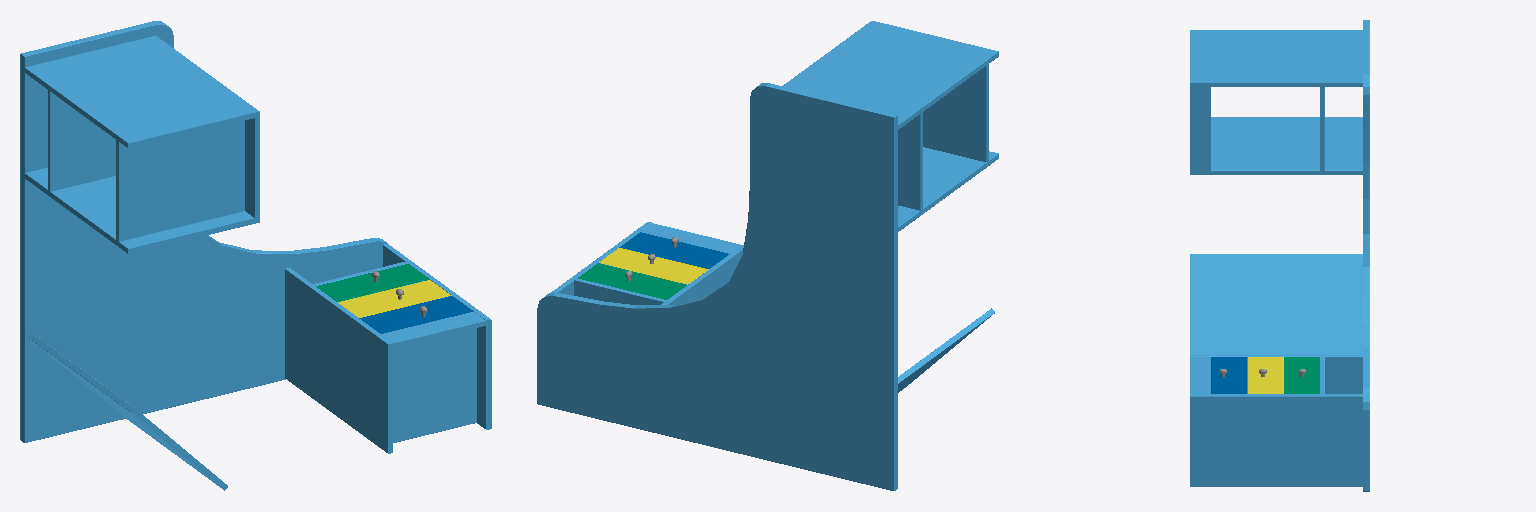
URDF robot description (294):
<robot name="294">


	<link name="0:virtual">
		<visual>
			<origin xyz="0.0 0.0 0.0" rpy="0 0 0"/>
			<geometry>
				<cylinder length="0" radius="0"/>
			</geometry>
		</visual>
	</link>


	<link name="1:static">
		<visual>
			<origin xyz="-0.0 -0.0 -0.0" rpy="0 0 0"/>
			<geometry>
				<mesh filename="../raw_data/294/part_meshes/1.dae" />
			</geometry>
		</visual>
	</link>


	<link name="2:drawer 1">
		<visual>
			<origin xyz="-0.541315495967865 -0.49769850075244904 0.5604474991559982" rpy="0 0 0"/>
			<geometry>
				<mesh filename="../raw_data/294/part_meshes/2.dae" />
			</geometry>
		</visual>
	</link>


	<link name="3:drawer 2">
		<visual>
			<origin xyz="-0.541315495967865 -0.33618199825286865 0.5604474991559982" rpy="0 0 0"/>
			<geometry>
				<mesh filename="../raw_data/294/part_meshes/3.dae" />
			</geometry>
		</visual>
	</link>


	<link name="4:drawer 3">
		<visual>
			<origin xyz="-0.541315495967865 -0.1746649444103241 0.5604474991559982" rpy="0 0 0"/>
			<geometry>
				<mesh filename="../raw_data/294/part_meshes/4.dae" />
			</geometry>
		</visual>
	</link>


	<joint name="0:virtual::1:static" type="fixed">
		<parent link="0:virtual"/>
		<child link="1:static"/>
		<origin xyz="0.0 0.0 0.0" rpy="0 0 0"/>
	</joint>


	<joint name="0:virtual::2:drawer 1_translation" type="prismatic">
		<parent link="0:virtual"/>
		<child link="2:drawer 1"/>
		<origin xyz="0.541315495967865 0.49769850075244904 -0.5604474991559982" rpy="0 0 0"/>
		<limit lower="-0.0002730249166489" upper="0.351726975083351" effort="10" velocity="3"/>
		<axis xyz="0.0 0.0 1.0"/>
	</joint>


	<joint name="0:virtual::3:drawer 2_translation" type="prismatic">
		<parent link="0:virtual"/>
		<child link="3:drawer 2"/>
		<origin xyz="0.541315495967865 0.33618199825286865 -0.5604474991559982" rpy="0 0 0"/>
		<limit lower="-0.0002730249166489" upper="0.351726975083351" effort="10" velocity="3"/>
		<axis xyz="0.0 0.0 1.0"/>
	</joint>


	<joint name="0:virtual::4:drawer 3_translation" type="prismatic">
		<parent link="0:virtual"/>
		<child link="4:drawer 3"/>
		<origin xyz="0.541315495967865 0.1746649444103241 -0.5604474991559982" rpy="0 0 0"/>
		<limit lower="-0.0002730249166489" upper="0.351726975083351" effort="10" velocity="3"/>
		<axis xyz="0.0 0.0 1.0"/>
	</joint>


</robot>

--- Facts derived from the render (not from the file) ---
Views: 3 orthographic renders of the robot side by side, from view 1: azimuth 30°, elevation 25°; view 2: azimuth 150°, elevation 25°; view 3: azimuth 270°, elevation 25°.
Robot: 294 — 5 links, 4 joints (3 prismatic, 1 fixed); root link 0:virtual; default pose: all joints at 0.
Visible links, largest first — view 1: 1:static, 2:drawer 1, 3:drawer 2, 4:drawer 3; view 2: 1:static, 4:drawer 3, 3:drawer 2, 2:drawer 1; view 3: 1:static, 2:drawer 1, 3:drawer 2, 4:drawer 3.
Link boxes in pixels (left/top/right/bottom): 1:static: left=20, top=21, right=491, bottom=490; 2:drawer 1: left=316, top=264, right=429, bottom=301; 3:drawer 2: left=338, top=280, right=451, bottom=317; 4:drawer 3: left=359, top=296, right=472, bottom=333; 1:static: left=537, top=21, right=998, bottom=490; 4:drawer 3: left=619, top=232, right=728, bottom=268; 3:drawer 2: left=599, top=248, right=708, bottom=284; 2:drawer 1: left=578, top=263, right=686, bottom=299; 1:static: left=1190, top=20, right=1369, bottom=491; 2:drawer 1: left=1284, top=357, right=1319, bottom=393; 3:drawer 2: left=1248, top=357, right=1283, bottom=393; 4:drawer 3: left=1211, top=357, right=1246, bottom=393.
Bounding box of the posed robot: 1.58 × 0.8 × 1.58 m (x, y, z).
4 mesh visuals loaded from 4 distinct referenced files (4 Collada DAE).